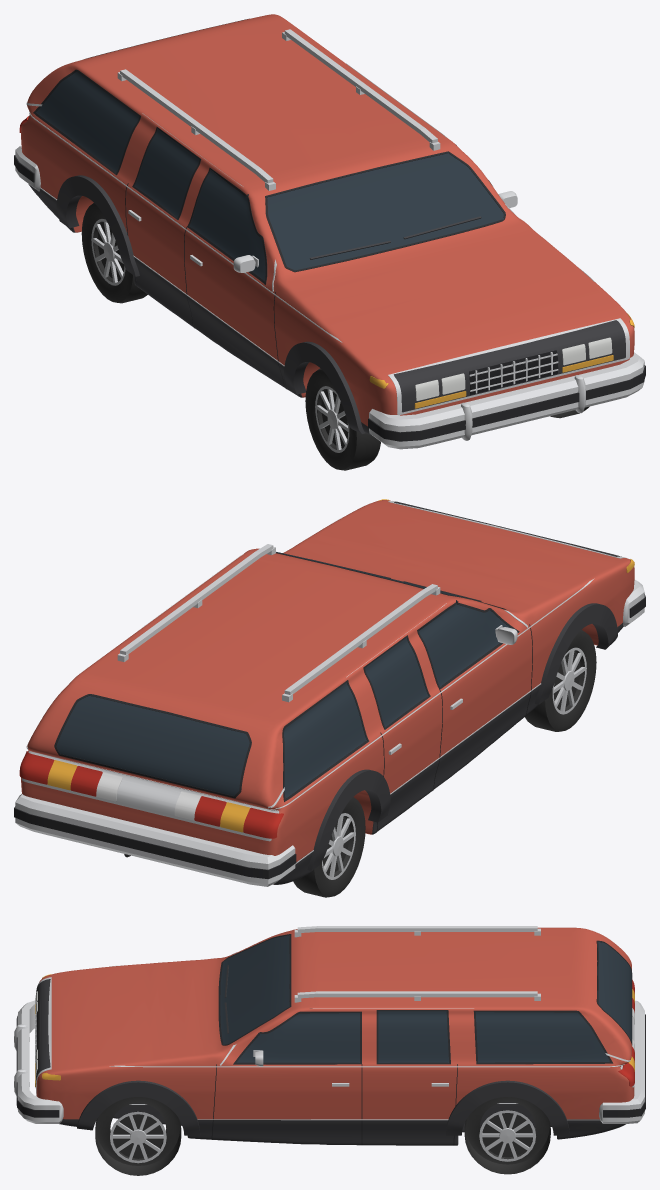
The model's file is eagle.glb.
The picture shows the model from 3 angles, top to bottom: view 1: azimuth 30°, elevation 25°; view 2: azimuth 150°, elevation 25°; view 3: azimuth 270°, elevation 25°; orthographic projection. The views are drawn at different scales.
Visible parts, largest first — view 1: paint, trim, glass, wheel_fr, wheel_rr, headlights; view 2: paint, trim, glass, wheel_fr, wheel_rr, taillights, reverse_lights, rear_blinker_left, rear_blinker_right; view 3: paint, glass, trim, wheel_fl, wheel_rl.
Boxes of the visible parts, x1,y1,x2,y2 form: paint: (21, 14, 634, 435); trim: (14, 18, 645, 449); glass: (36, 72, 503, 280); wheel_fr: (305, 368, 380, 470); wheel_rr: (81, 203, 147, 303); headlights: (415, 337, 612, 400); paint: (21, 500, 634, 884); trim: (14, 499, 645, 886); glass: (56, 552, 510, 798); wheel_fr: (525, 629, 596, 731); wheel_rr: (293, 797, 365, 897); taillights: (19, 751, 283, 838); reverse_lights: (96, 772, 200, 820); rear_blinker_left: (47, 760, 77, 790); rear_blinker_right: (220, 802, 249, 832); paint: (36, 927, 634, 1145); glass: (220, 935, 631, 1062); trim: (14, 926, 645, 1145); wheel_fl: (95, 1097, 181, 1175); wheel_rl: (464, 1097, 550, 1174).
Bounding box in the file's own units: 1.98 × 1.41 × 4.75.
